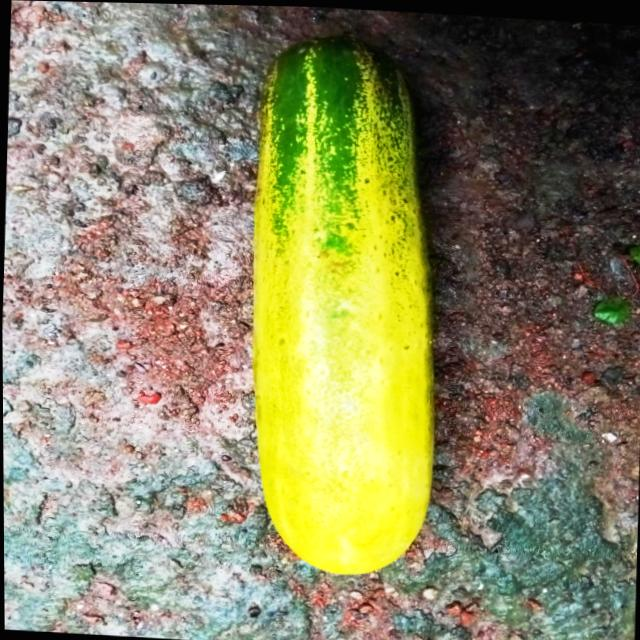Fresh-Cucumber: (235, 30, 452, 579)
